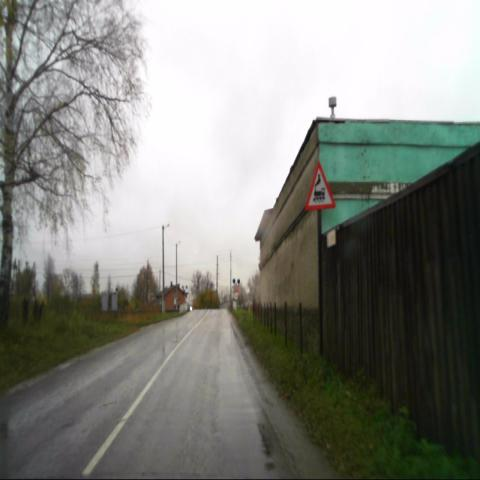1_2: (305, 161, 336, 211)
